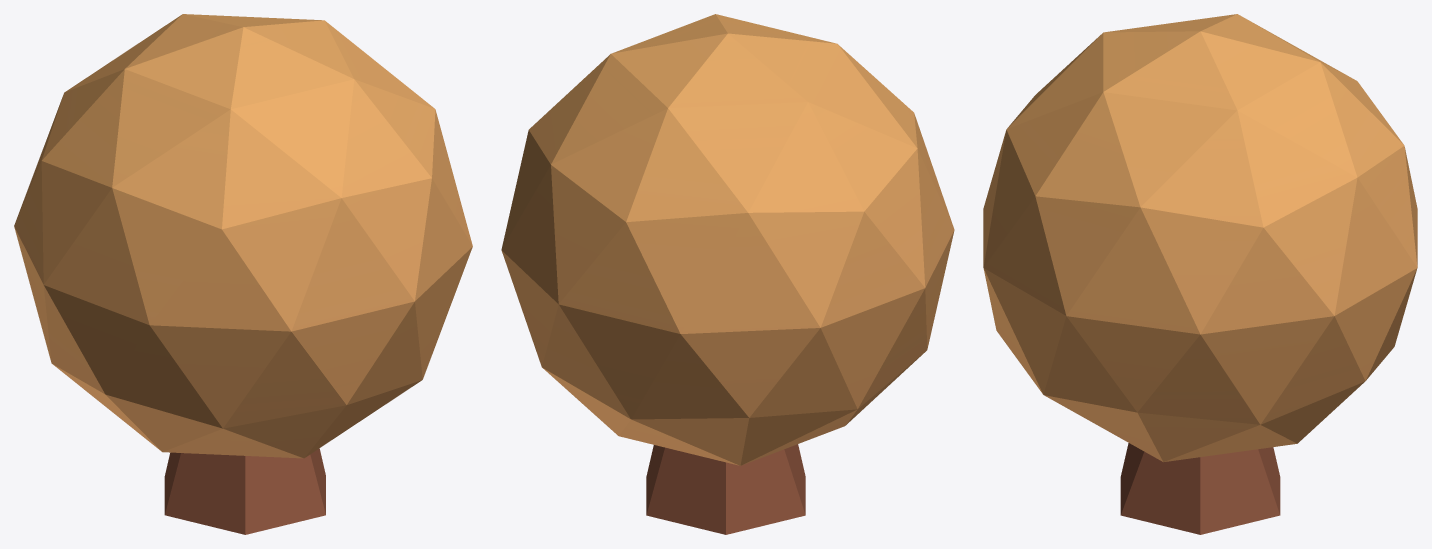
The model's file is Bush_2_gradient_yellow.fbx.
3 renders of one model, left to right at view 1: azimuth 30°, elevation 25°; view 2: azimuth 150°, elevation 25°; view 3: azimuth 270°, elevation 25°, orthographic.
Visible parts, largest first — view 1: Bush_2_gradient_yellow; view 2: Bush_2_gradient_yellow; view 3: Bush_2_gradient_yellow.
Part boxes in pixels (<box>): Bush_2_gradient_yellow: <box>14,14,472,534</box>; Bush_2_gradient_yellow: <box>501,14,954,534</box>; Bush_2_gradient_yellow: <box>983,14,1417,534</box>.
Bounding box in the file's own units: 35.19 × 39.46 × 33.47.
